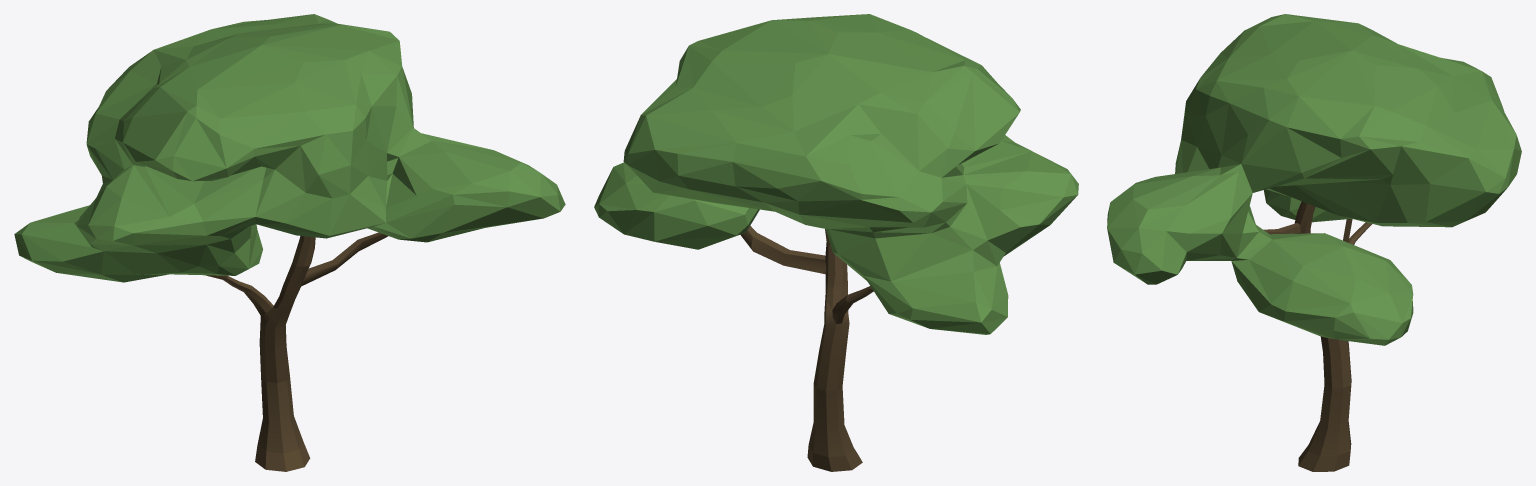
File: FINAL_N_Tree3_maple3.fbx
3 renders of one model, left to right at view 1: azimuth 30°, elevation 25°; view 2: azimuth 150°, elevation 25°; view 3: azimuth 270°, elevation 25°, orthographic. The views are drawn at different scales.
Parts seen in each view (by area): view 1: polySurface815; view 2: polySurface815; view 3: polySurface815.
Part boxes in pixels (<box>): polySurface815: <box>14,14,565,471</box>; polySurface815: <box>594,14,1078,471</box>; polySurface815: <box>1107,14,1521,471</box>.
Size of the model in its own units: 19.63 by 18.29 by 16.84.
